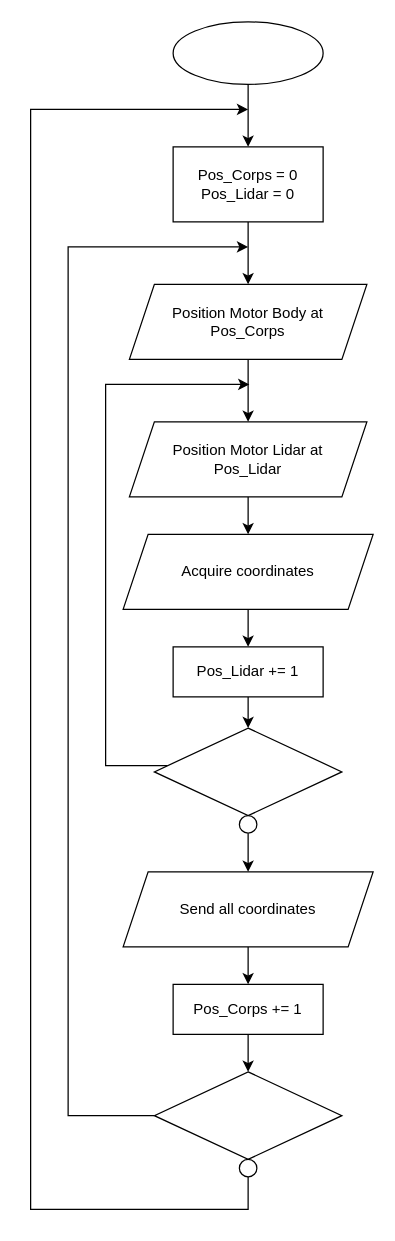
The diagram is 395 pixels wide and 1241 high, and some of its shapes have lost their labels. Each missing label, with the box of its shape:
Beginning: (172, 21, 323, 84)
Pos_Corps ≤ 180 ?: (153, 1071, 342, 1159)
Pos_Lidar ≤ 180 ?: (153, 727, 342, 816)
